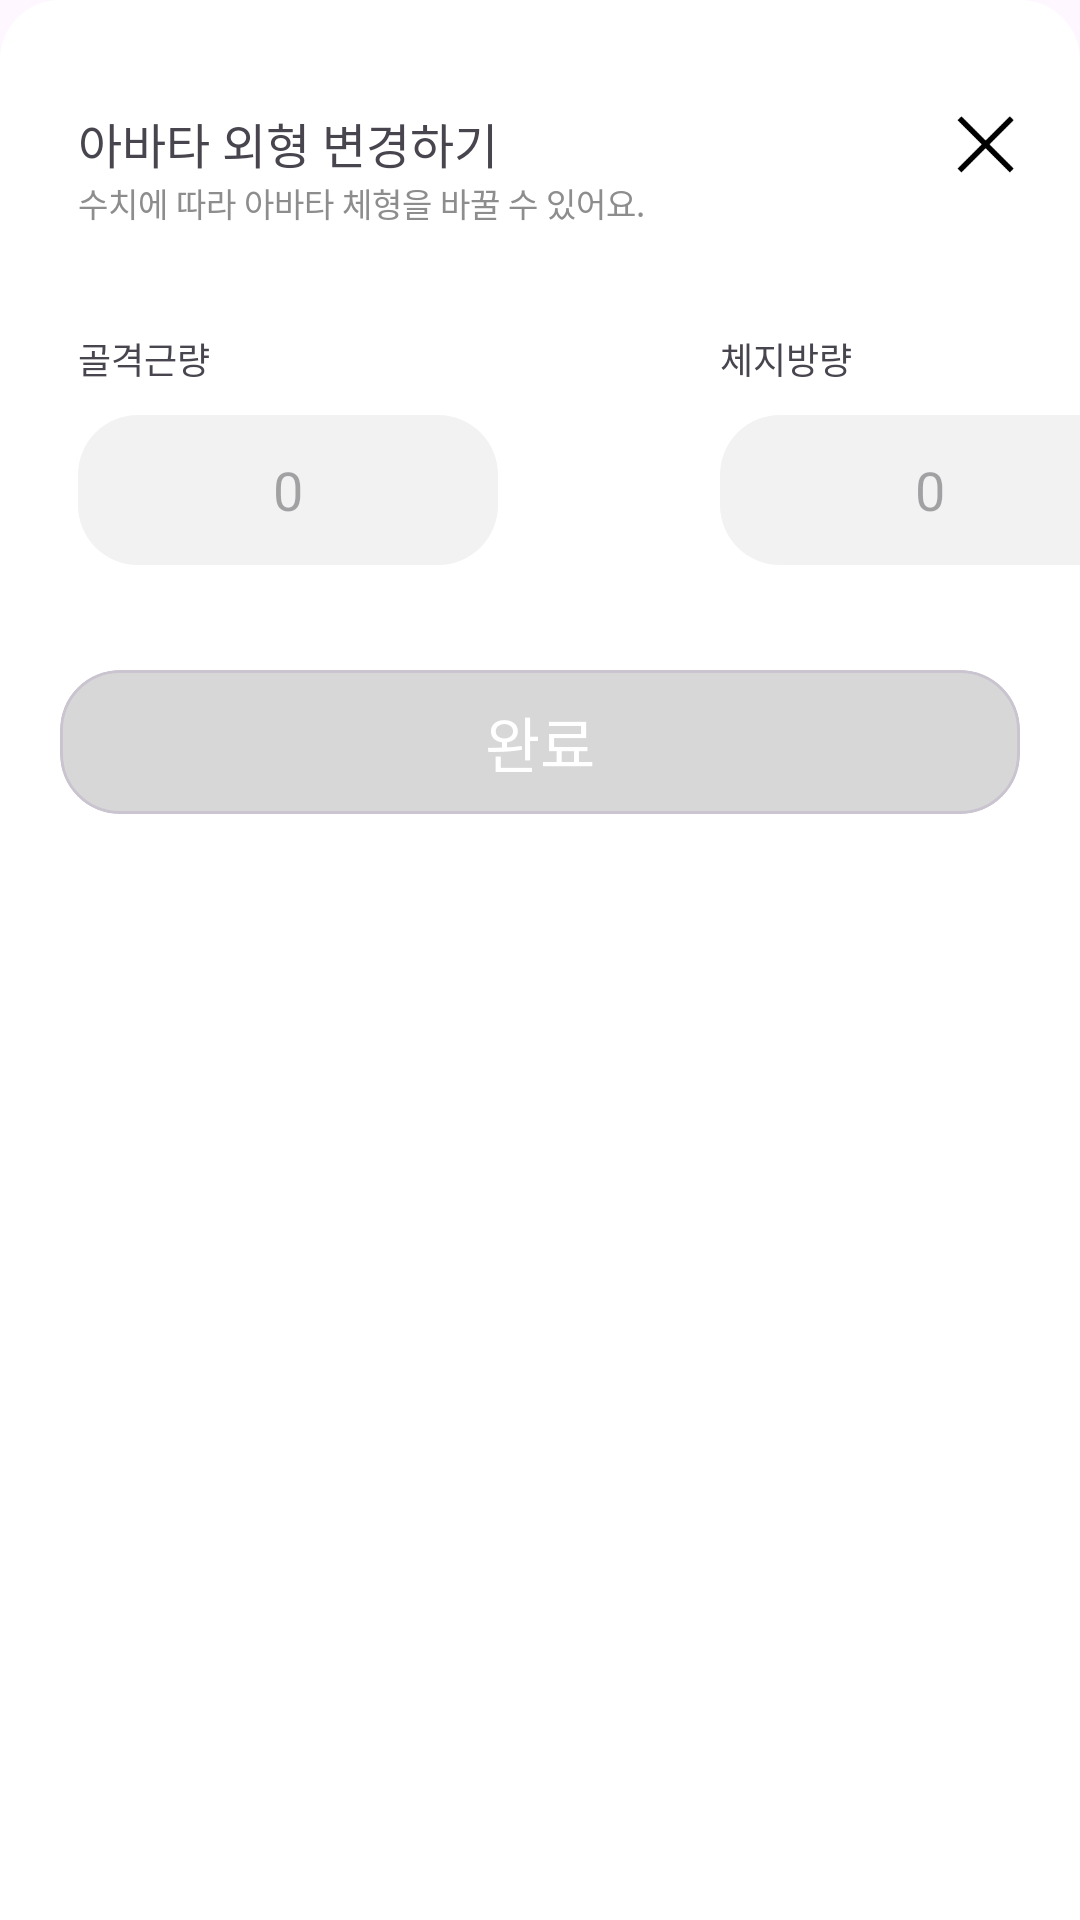

Icon click points for this 1080x1920 phone screenshot, format (x=x, y=y):
cancel: (x=985, y=144)
